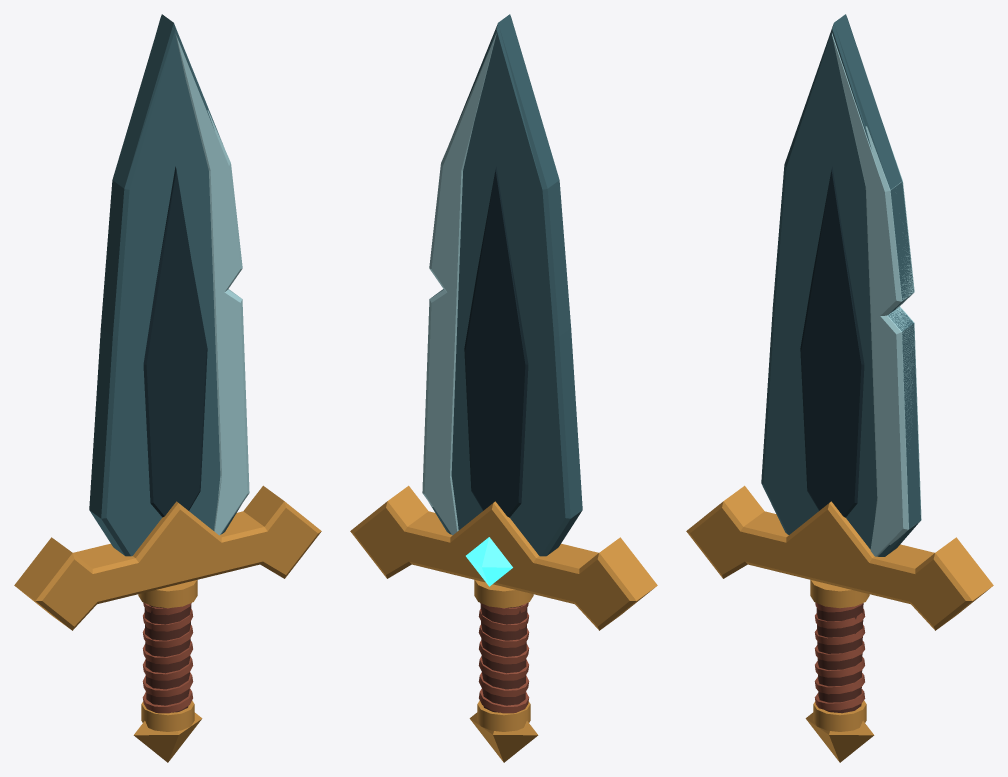
The model's file is sword.glb.
The picture shows the model from 3 angles, left to right: view 1: azimuth 30°, elevation 25°; view 2: azimuth 150°, elevation 25°; view 3: azimuth 330°, elevation 25°; orthographic projection.
Visible parts, largest first — view 1: sword; view 2: sword; view 3: sword.
Boxes of the visible parts, box(x1,y1,x2,y2) form: sword: box(14, 14, 321, 762); sword: box(350, 14, 657, 762); sword: box(686, 14, 993, 762).
Bounding box in the file's own units: 0.6226 × 1.55 × 0.1396.
